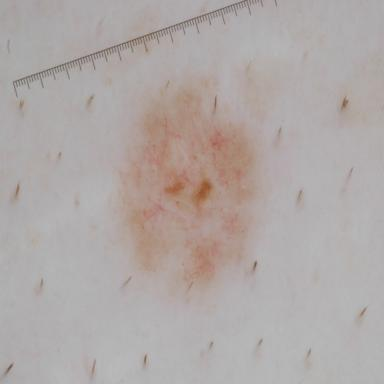nevus: (121, 90, 252, 283)
